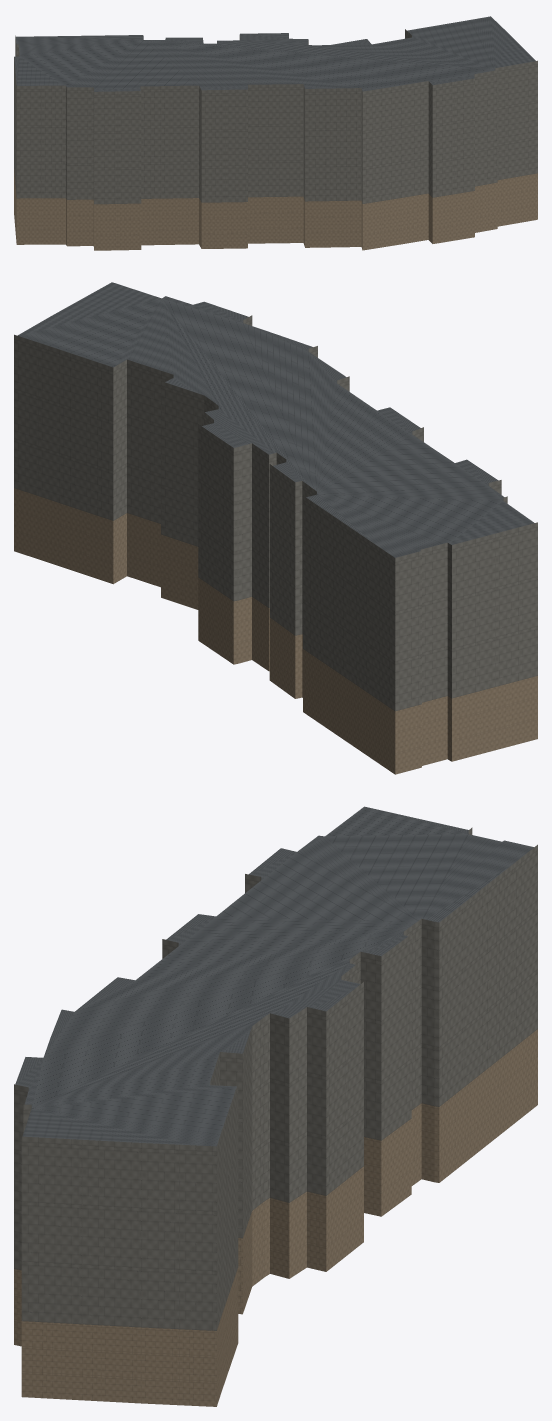
Rendered from core_0130.gltf.
The picture shows the model from 3 angles, top to bottom: view 1: azimuth 30°, elevation 25°; view 2: azimuth 150°, elevation 25°; view 3: azimuth 270°, elevation 25°; orthographic projection. The views are drawn at different scales.
Visible parts, largest first — view 1: core_0130; view 2: core_0130; view 3: core_0130.
Boxes of the visible parts, x1,y1,x2,y2 form: core_0130: (14,16,537,250); core_0130: (14,282,537,774); core_0130: (14,806,537,1406).
Bounding box in the file's own units: 49.41 × 17.48 × 31.86.
Materials: 3 (3 with a texture image).
